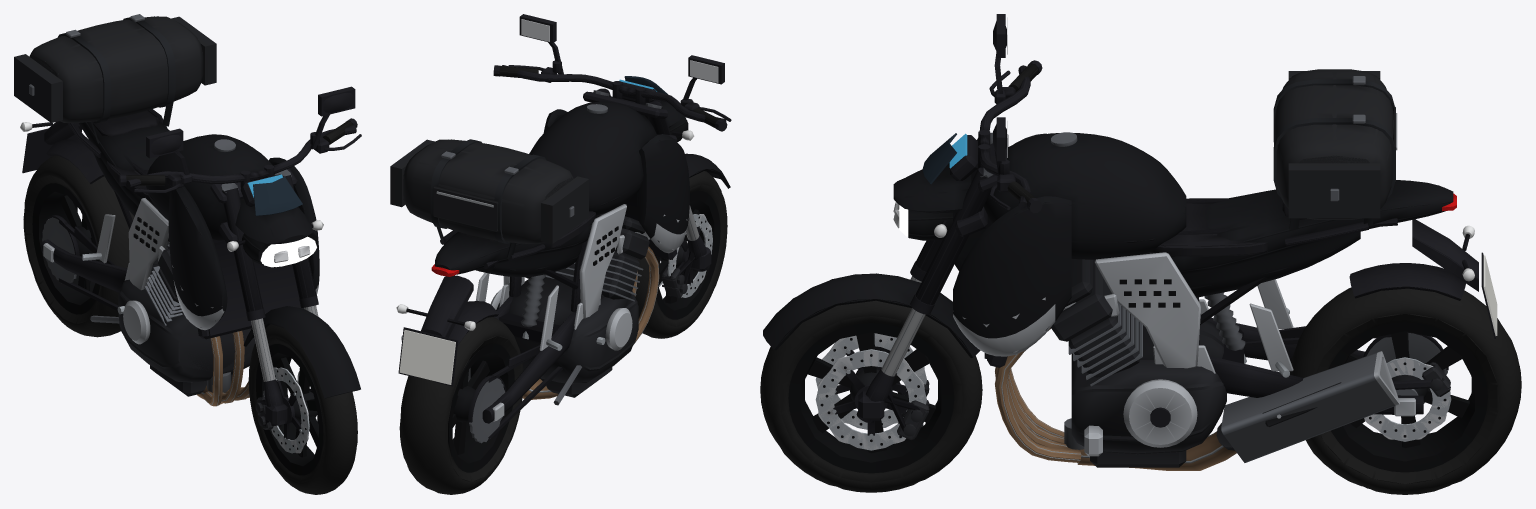
The model's file is bike06_z750.glb.
3 views of the same model, side by side, from view 1: azimuth 30°, elevation 25°; view 2: azimuth 150°, elevation 25°; view 3: azimuth 270°, elevation 25° (orthographic). The views are drawn at different scales.
Parts seen in each view (by area): view 1: body (×2), luggage (×2), wheel_rear (×2), wheel_front (×2), handlebar (×2), fork_left (×2), disc_front (×2), headlight (×2), fork_right; view 2: body (×2), luggage (×2), wheel_rear (×2), wheel_front (×2), handlebar (×2), fork_left, disc_front (×2); view 3: body (×2), wheel_rear (×2), wheel_front (×2), luggage (×2), disc_front (×2), fork_right (×2), handlebar (×2), disc_rear (×2), fork_left.
Part boxes in pixels (x1,y1,x2,y2): body (×2): (20,109,360,406); luggage (×2): (14,14,216,143); wheel_rear (×2): (23,155,134,337); wheel_front (×2): (248,324,357,494); handlebar (×2): (119,86,361,192); fork_left (×2): (221,183,288,429); disc_front (×2): (263,367,318,453); headlight (×2): (260,236,316,267); fork_right: (274,169,318,395); body (×2): (396,76,730,440); luggage (×2): (390,139,588,258); wheel_rear (×2): (399,317,523,494); wheel_front (×2): (635,171,727,338); handlebar (×2): (493,14,731,131); fork_left: (645,102,711,298); disc_front (×2): (658,214,712,297); body (×2): (763,132,1497,470); wheel_rear (×2): (1289,287,1521,494); wheel_front (×2): (760,300,982,492); luggage (×2): (1273,69,1397,229); disc_front (×2): (815,333,926,450); fork_right (×2): (856,167,993,439); handlebar (×2): (978,14,1042,213); disc_rear (×2): (1364,357,1451,441); fork_left: (875,132,992,414).
Bounding box in the file's own units: 0.9104 × 1.24 × 2.06.
